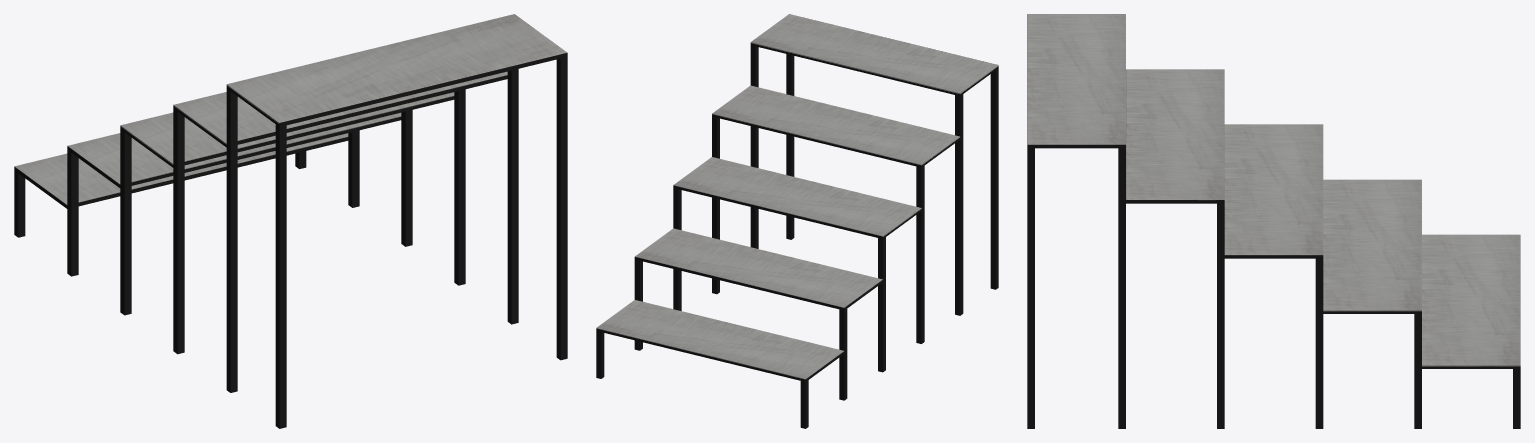
Rendered from Platform_stair_01.FBX.
3 views of the same model, side by side, from view 1: azimuth 30°, elevation 25°; view 2: azimuth 150°, elevation 25°; view 3: azimuth 270°, elevation 25° (orthographic). The views are drawn at different scales.
Parts seen in each view (by area): view 1: Platform_stair; view 2: Platform_stair; view 3: Platform_stair.
Part boxes in pixels (<box>): Platform_stair: <box>14,14,567,428</box>; Platform_stair: <box>596,14,998,428</box>; Platform_stair: <box>1027,14,1520,428</box>.
Bounding box in the file's own units: 1.22 × 1.24 × 1.95.
